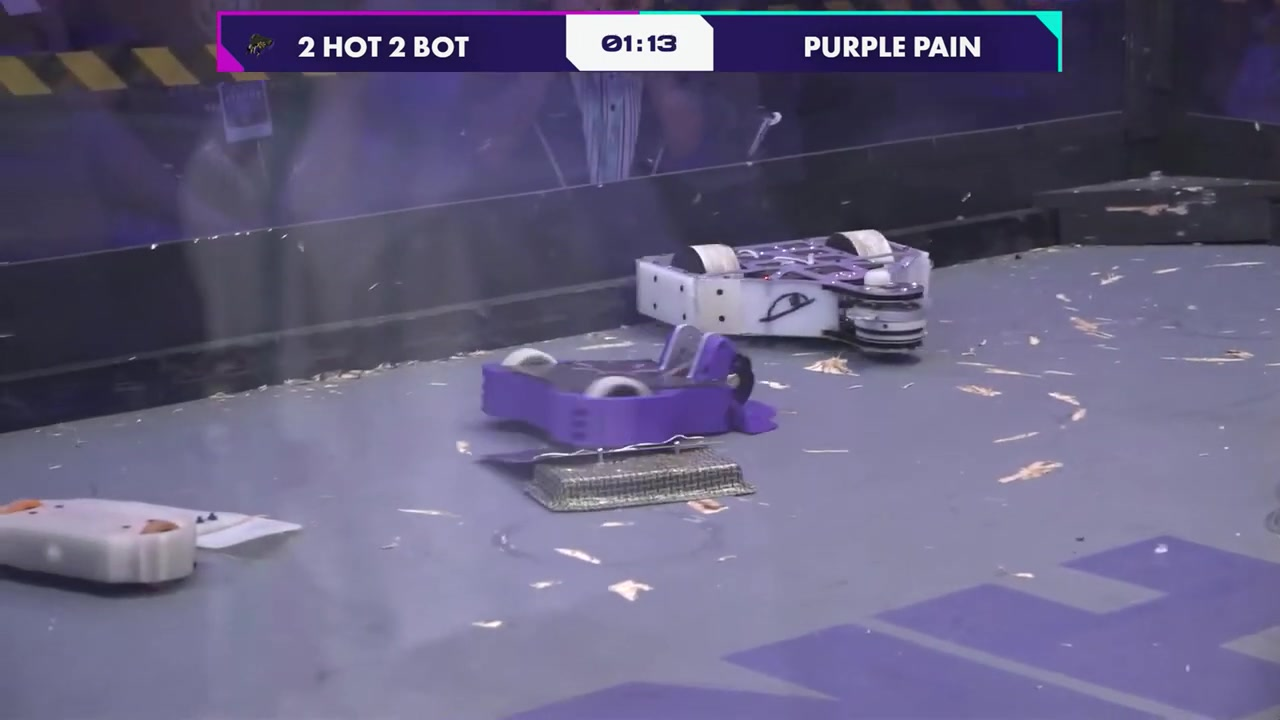combatbot: (635, 231, 931, 353), (480, 322, 776, 443), (0, 497, 196, 595)
minibot: (482, 448, 773, 509)
